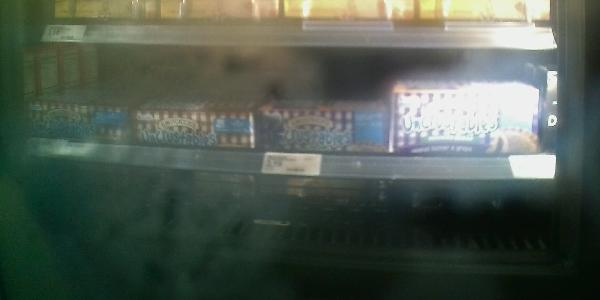icecream: (386, 84, 542, 160), (256, 100, 389, 155), (24, 94, 133, 147), (135, 104, 255, 149)
